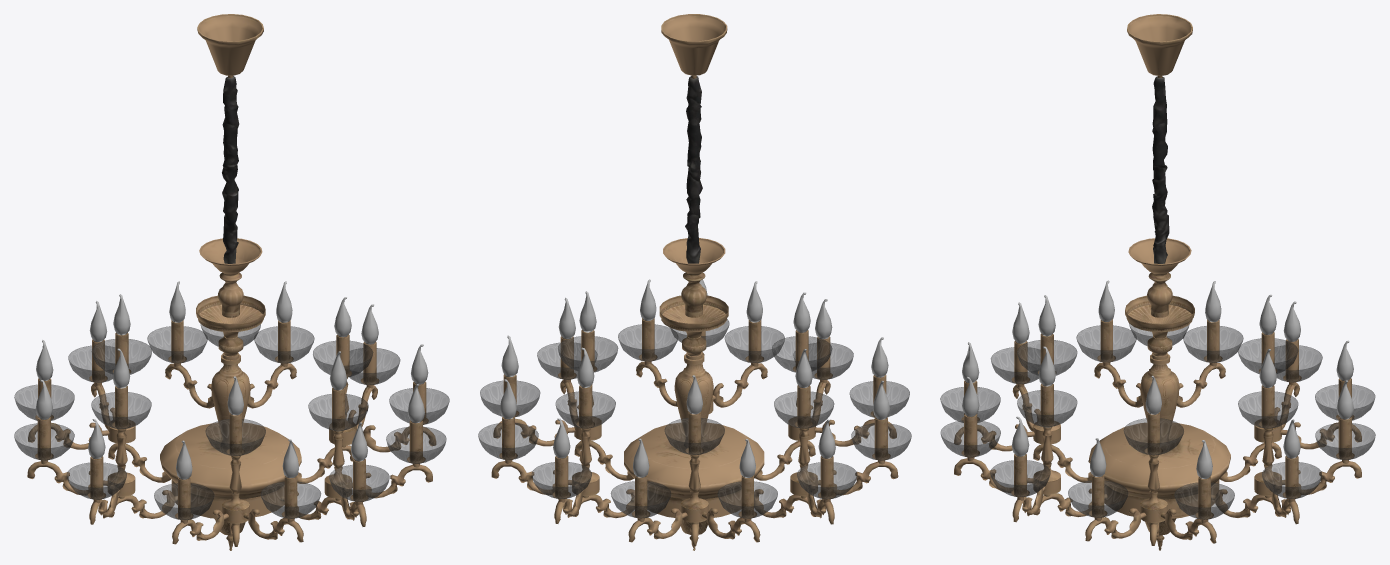
The model's file is Chandelier_03.glb.
3 views of the same model, side by side, from view 1: azimuth 30°, elevation 25°; view 2: azimuth 150°, elevation 25°; view 3: azimuth 270°, elevation 25° (orthographic).
Parts seen in each view (by area): view 1: Chandelier_03; view 2: Chandelier_03; view 3: Chandelier_03.
Boxes of the visible parts, x1,y1,x2,y2 form: Chandelier_03: [14, 14, 449, 550]; Chandelier_03: [478, 14, 911, 550]; Chandelier_03: [940, 14, 1375, 550].
Size of the model in its own units: 0.7804 by 1.04 by 0.7854.
2 materials, 2 textured.
